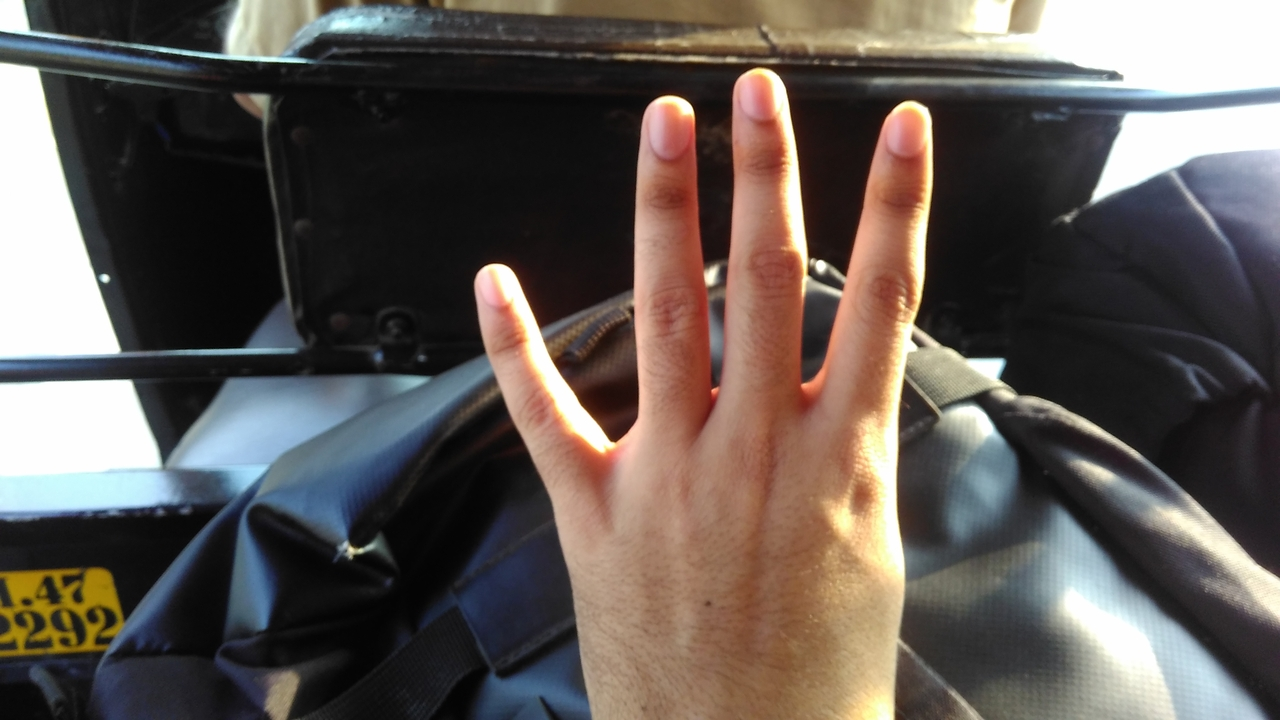fingertip: (876, 94, 940, 166), (636, 92, 702, 158), (728, 62, 792, 130), (468, 262, 526, 320)
